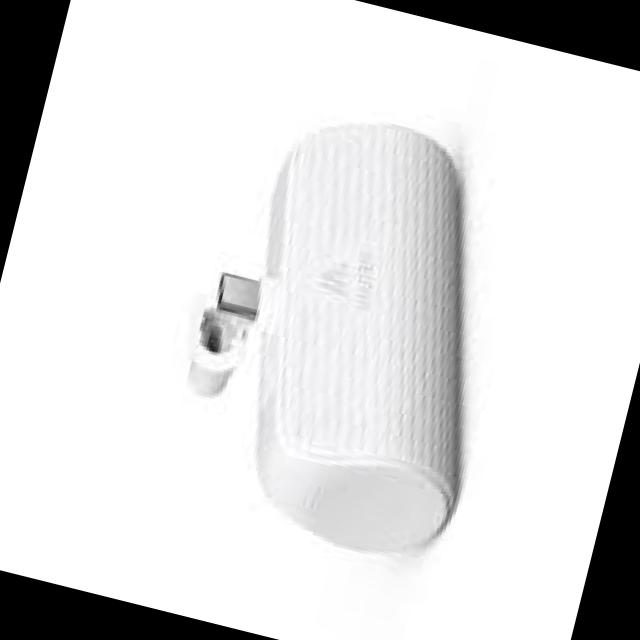power_bank: (148, 85, 548, 571)
